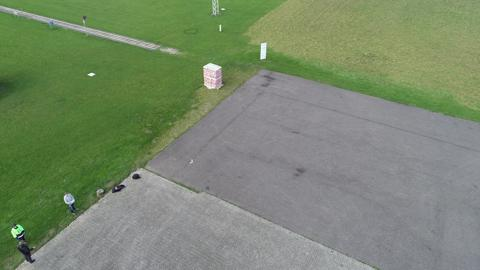RockwoolPallet: (203, 63, 223, 91)
